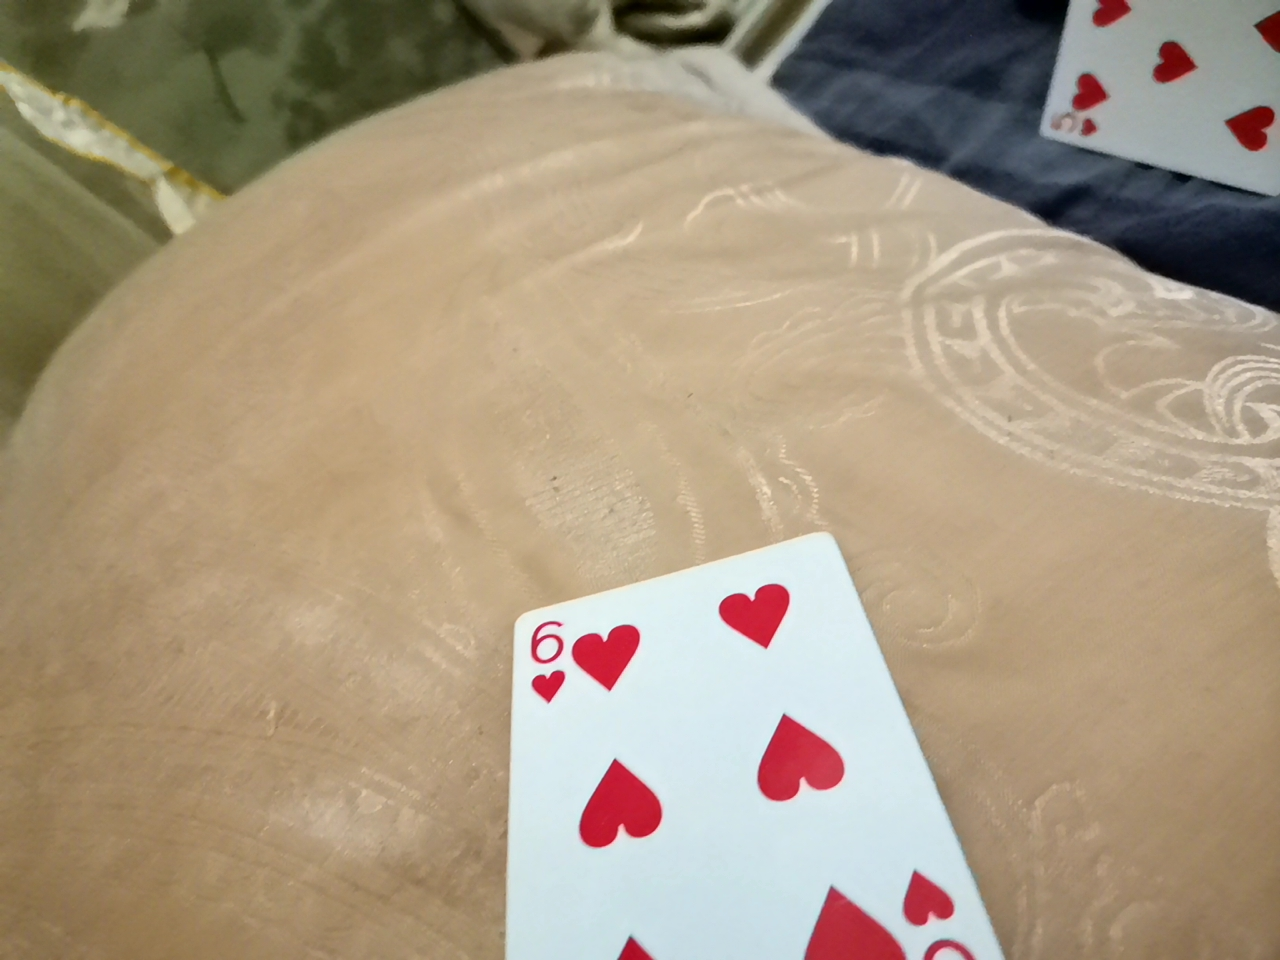hx 6: (485, 548, 982, 955)
